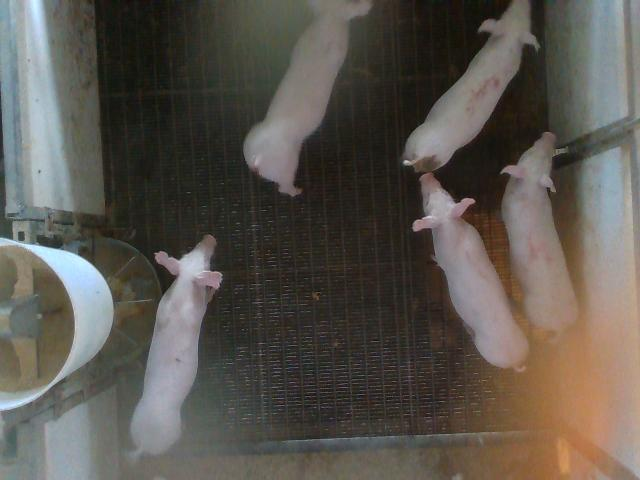pig-4: (501, 132, 578, 332)
pig-5: (402, 0, 539, 172)
